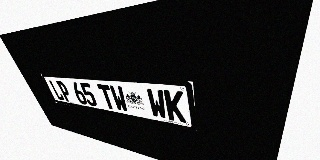5: (79, 83, 98, 107)
6: (70, 82, 89, 105)
K: (163, 90, 186, 123)
L: (48, 80, 65, 101)
P: (56, 81, 73, 102)
T: (97, 84, 117, 110)
W: (146, 88, 168, 120), (109, 85, 129, 113)
